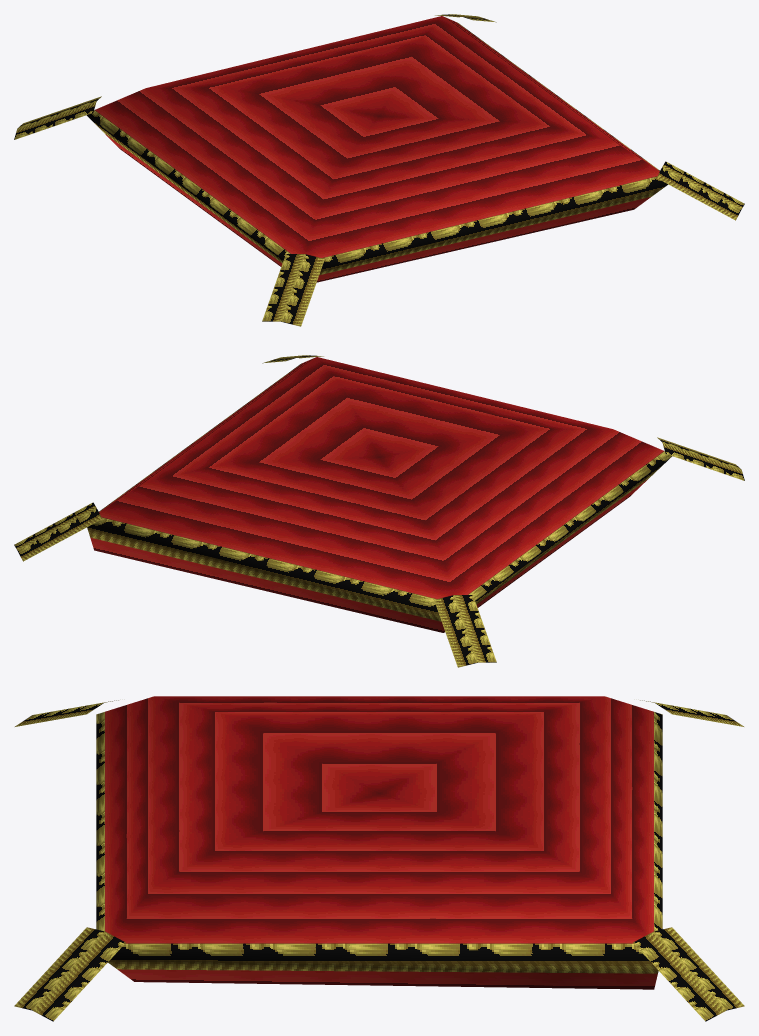
Rendered from acce_mat.gltf.
3 renders of one model, top to bottom at view 1: azimuth 30°, elevation 25°; view 2: azimuth 150°, elevation 25°; view 3: azimuth 270°, elevation 25°, orthographic. The views are drawn at different scales.
Visible parts, largest first — view 1: acce_mat; view 2: acce_mat; view 3: acce_mat.
Boxes of the visible parts, x1,y1,x2,y2 form: acce_mat: (14,14,744,326); acce_mat: (14,355,744,667); acce_mat: (14,696,744,1021).
Bounding box in the file's own units: 1.38 × 0.2064 × 1.38.
2 materials, 2 textured.
